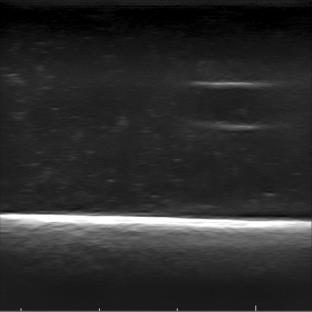vessel: (190, 80, 273, 133)
